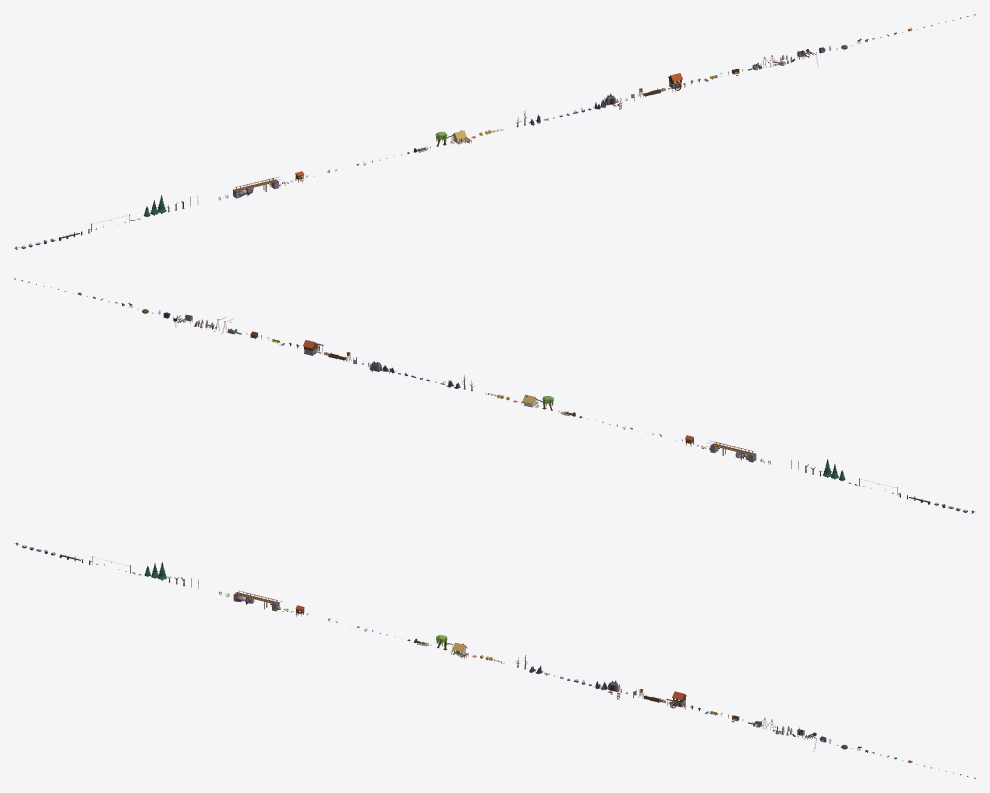
Rendered from river.glb.
3 renders of one model, top to bottom at view 1: azimuth 30°, elevation 25°; view 2: azimuth 150°, elevation 25°; view 3: azimuth 330°, elevation 25°, orthographic.
Size of the model in its own units: 530 by 15.98 by 12.75.
